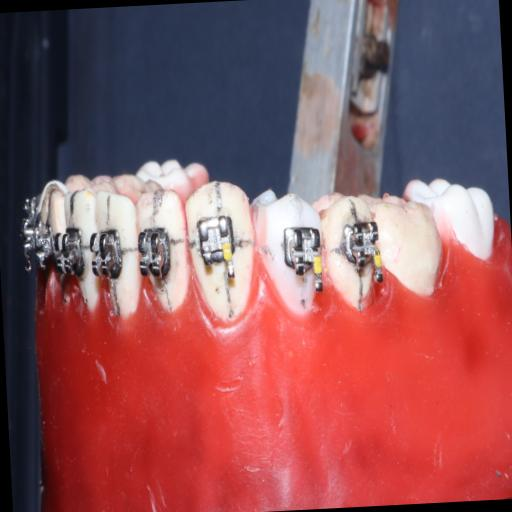incorrect_brace: (191, 210, 243, 281)
